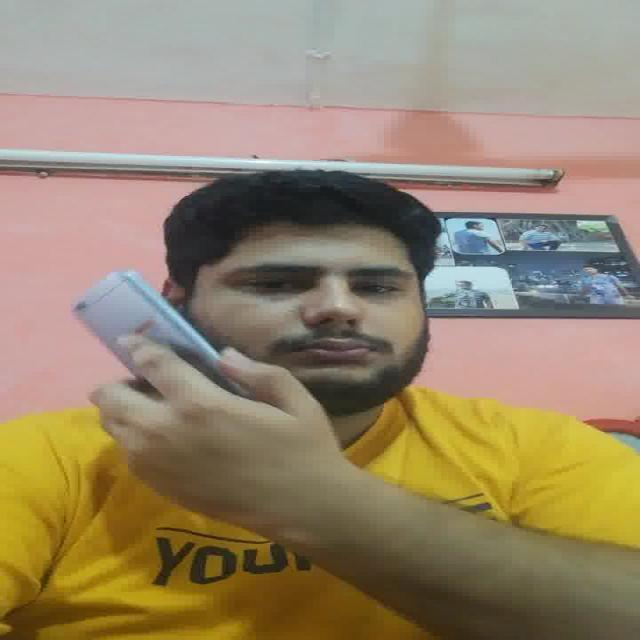Phone: (69, 268, 220, 374)
